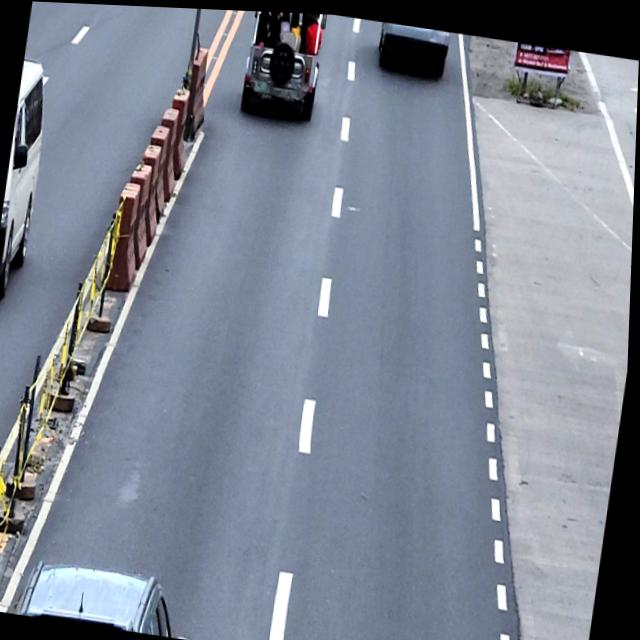Car: (15, 549, 207, 639), (0, 53, 55, 312), (237, 8, 330, 123), (372, 18, 452, 83)
License-Plate: (252, 75, 268, 90)
